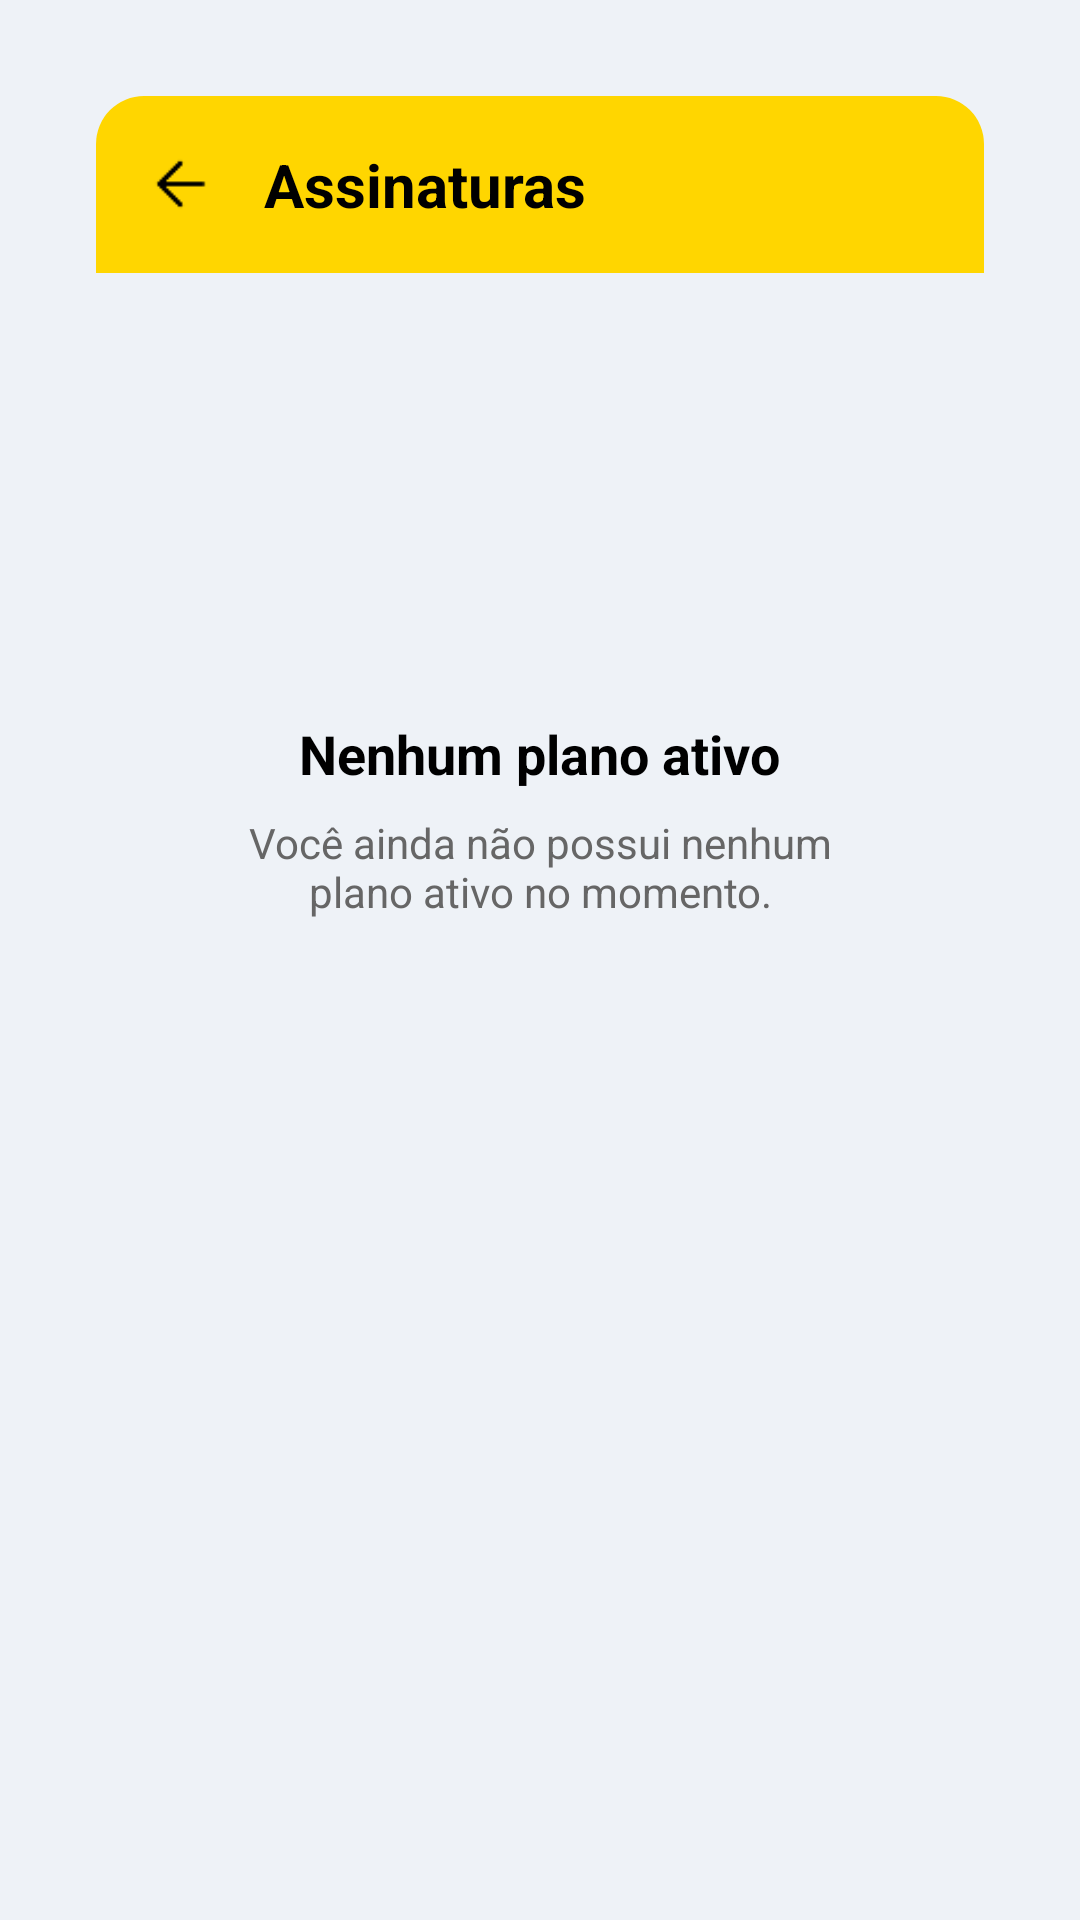

Point at icon controls on the screen. Image size 1080w x 1920h, points as [x,y].
Voltar: [181,184]
